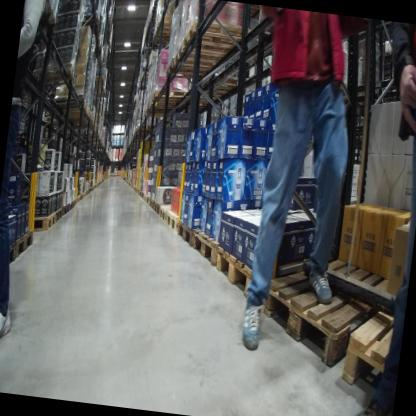pallet: (256, 223, 402, 370), (210, 212, 344, 313), (336, 291, 406, 398), (181, 18, 252, 59), (31, 53, 80, 96), (165, 54, 225, 87), (187, 224, 221, 276), (173, 41, 226, 69), (30, 0, 60, 39), (203, 71, 248, 96), (149, 84, 191, 108), (174, 213, 201, 250), (12, 223, 34, 267), (45, 88, 88, 110), (26, 208, 57, 238), (163, 208, 193, 235), (2, 236, 18, 275), (158, 202, 181, 227), (78, 9, 100, 30), (154, 20, 174, 36), (43, 112, 61, 127), (57, 201, 71, 217), (53, 205, 63, 223), (152, 199, 161, 218), (148, 194, 157, 210), (141, 189, 150, 205), (71, 195, 77, 208), (68, 197, 74, 209), (74, 193, 80, 204), (146, 194, 151, 207)
